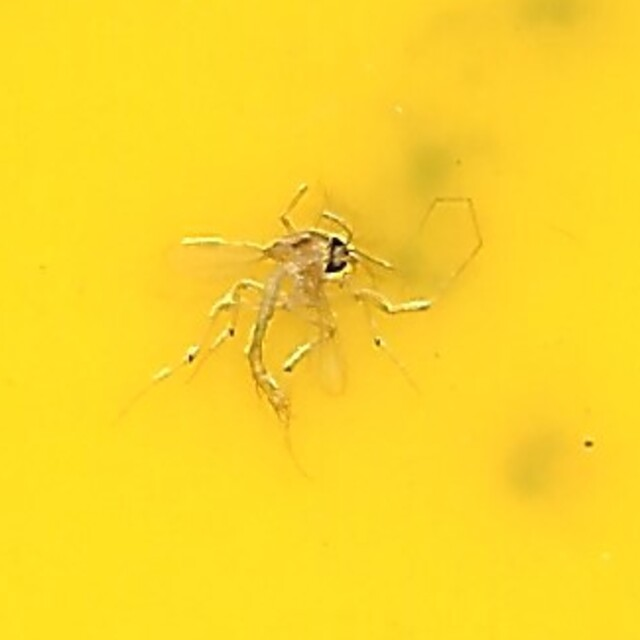Nematocera: (197, 206, 443, 434)
